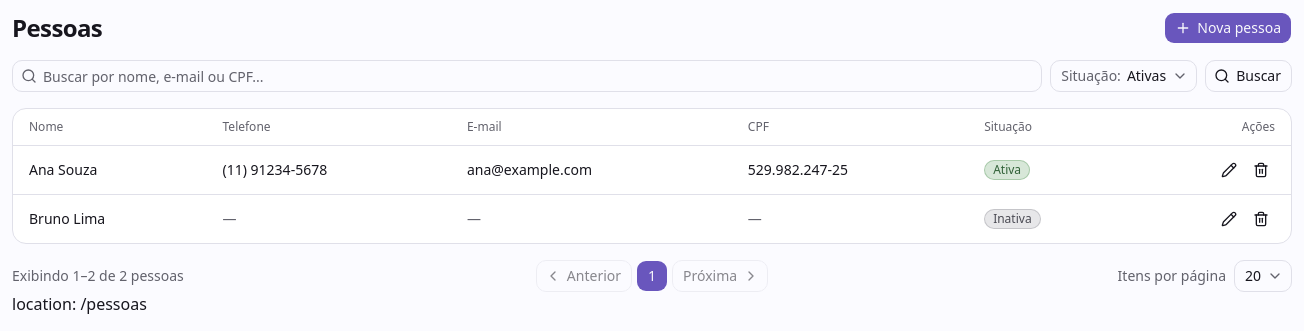
ClientListPage › narrows the list to the submitted term, writing it into the address
Expected: the link "Ana Souza" is shown, [29,160,97,179]
Type "bruno" into the field named "Buscar pessoas por nome, e-mail ou CPF" at (539, 76), box [37,60,1041,92]
Then press Enter
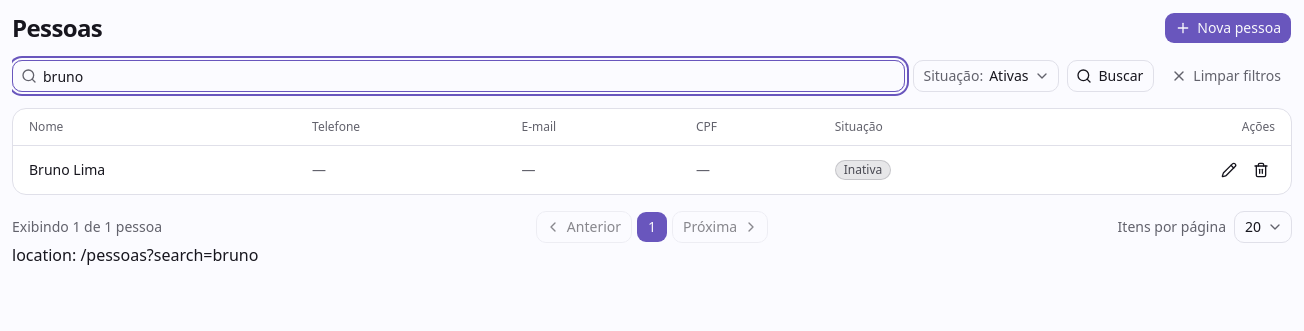
Expected: the link "Bruno Lima" is shown, [29,160,105,179]
Expected: the link "Ana Souza" is gone
Expected: the text with test id "location" reads "location: /pessoas?search=bruno", [12,244,258,266]
